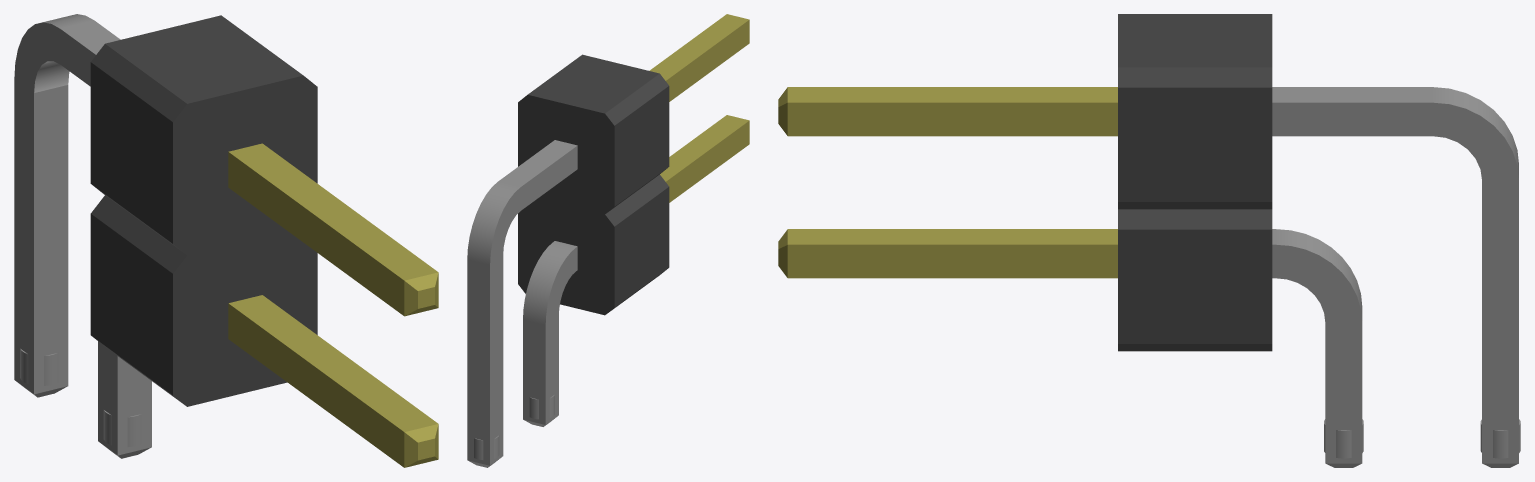
The model's file is Stiftleiste_Male_90_Gruppe.obj.
3 renders of one model, left to right at view 1: azimuth 30°, elevation 25°; view 2: azimuth 150°, elevation 25°; view 3: azimuth 270°, elevation 25°, orthographic. The views are drawn at different scales.
Parts seen in each view (by area): view 1: Volumenkörper1:1, Volumenkörper1; view 2: Volumenkörper1:1, Volumenkörper1; view 3: Volumenkörper1:1, Volumenkörper1.
Boxes of the visible parts, <box> form: Volumenkörper1:1: <box>14,14,438,397</box>; Volumenkörper1: <box>90,195,438,467</box>; Volumenkörper1:1: <box>467,14,749,467</box>; Volumenkörper1: <box>518,115,749,426</box>; Volumenkörper1:1: <box>778,14,1520,467</box>; Volumenkörper1: <box>778,209,1363,467</box>.
Size of the model in its own units: 2.54 by 7.57 by 12.02.
